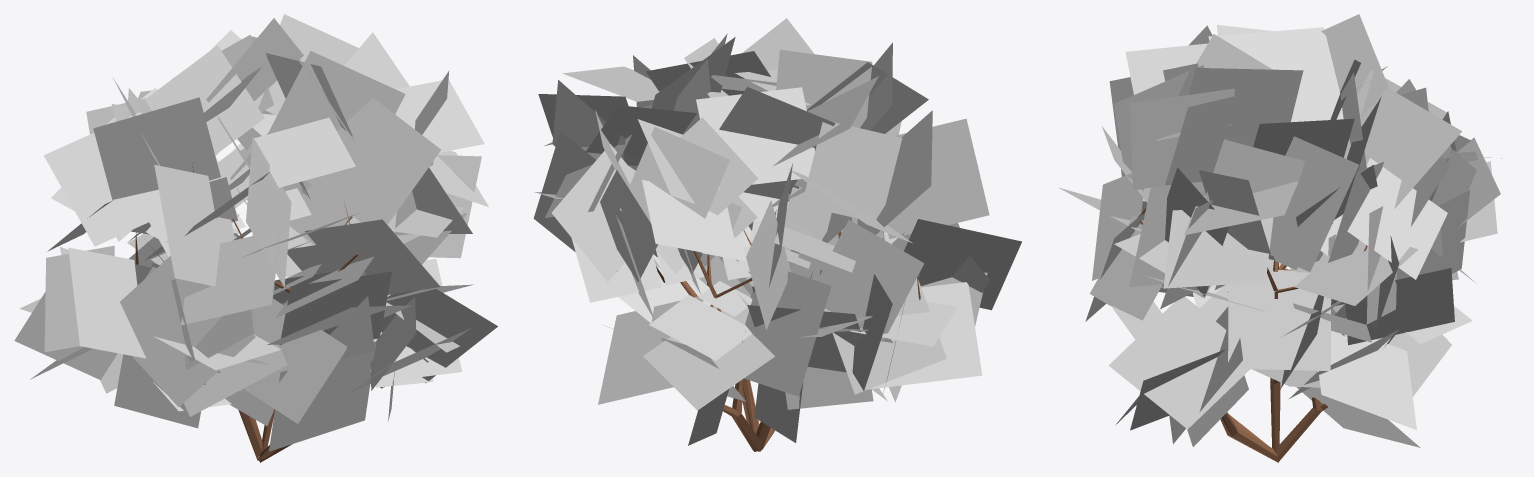
The model's file is bush.glb.
3 renders of one model, left to right at view 1: azimuth 30°, elevation 25°; view 2: azimuth 150°, elevation 25°; view 3: azimuth 270°, elevation 25°, orthographic. The views are drawn at different scales.
Parts seen in each view (by area): view 1: leaves, wood; view 2: leaves, wood; view 3: leaves, wood.
Boxes of the visible parts, x1,y1,x2,y2 form: leaves: (14,14,497,451); wood: (135,163,358,462); leaves: (533,18,1021,445); wood: (656,230,920,451); leaves: (1058,14,1502,447); wood: (1137,194,1434,462).
Bounding box in the file's own units: 4.14 × 3.63 × 3.66.
